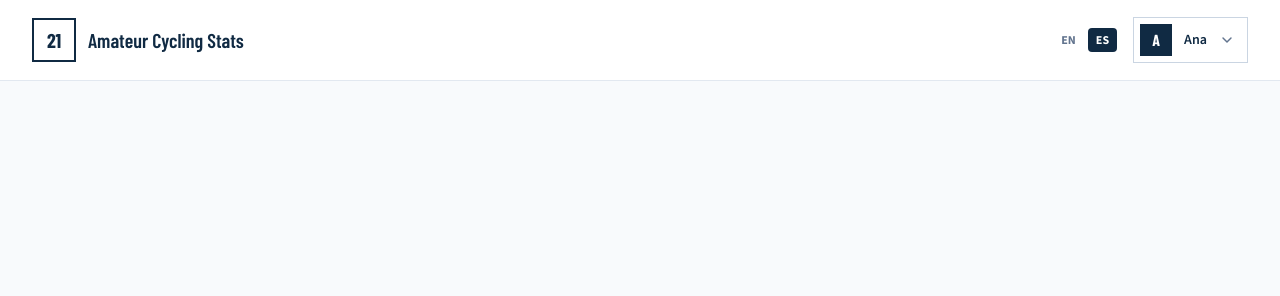
Test: SiteHeader › closes the authenticated menu with Escape
Click the button with aria-label "Abrir menú de Ana": (1191, 40) [1133,17,1248,63]
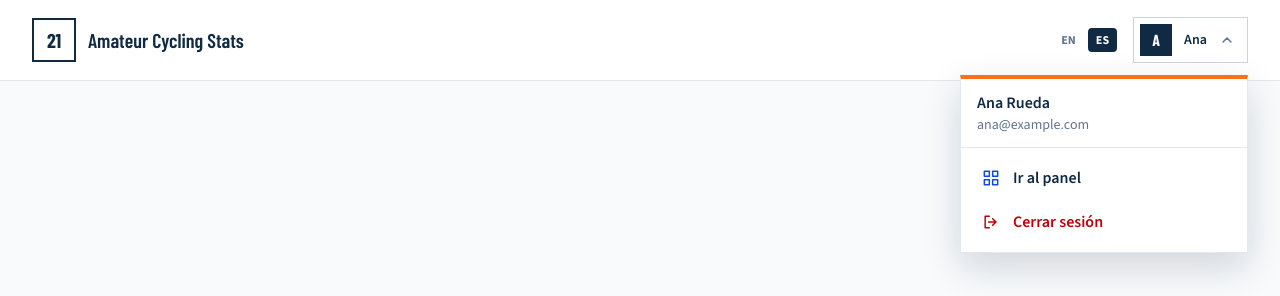
Press Escape
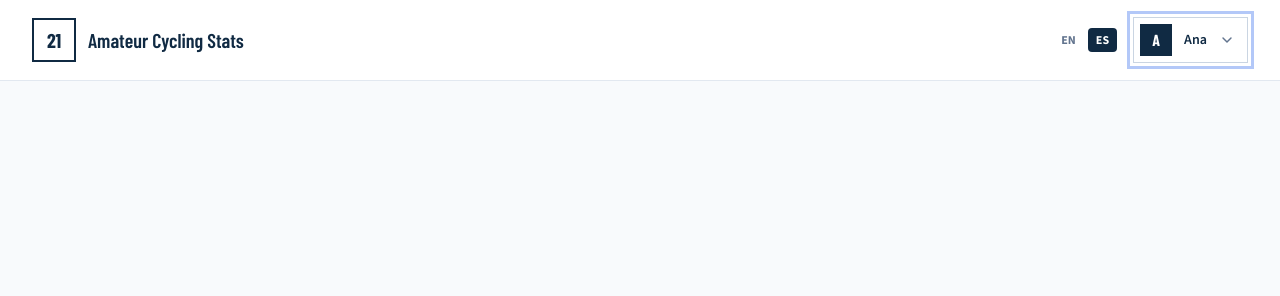
Now the link "Ir al panel" is gone
